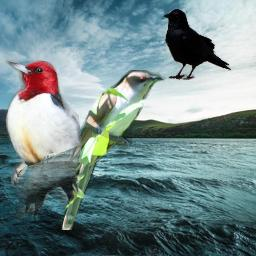Crow: (161, 8, 233, 80)
Cuckoo: (61, 70, 166, 230)
Woodpecker: (2, 60, 84, 225)
